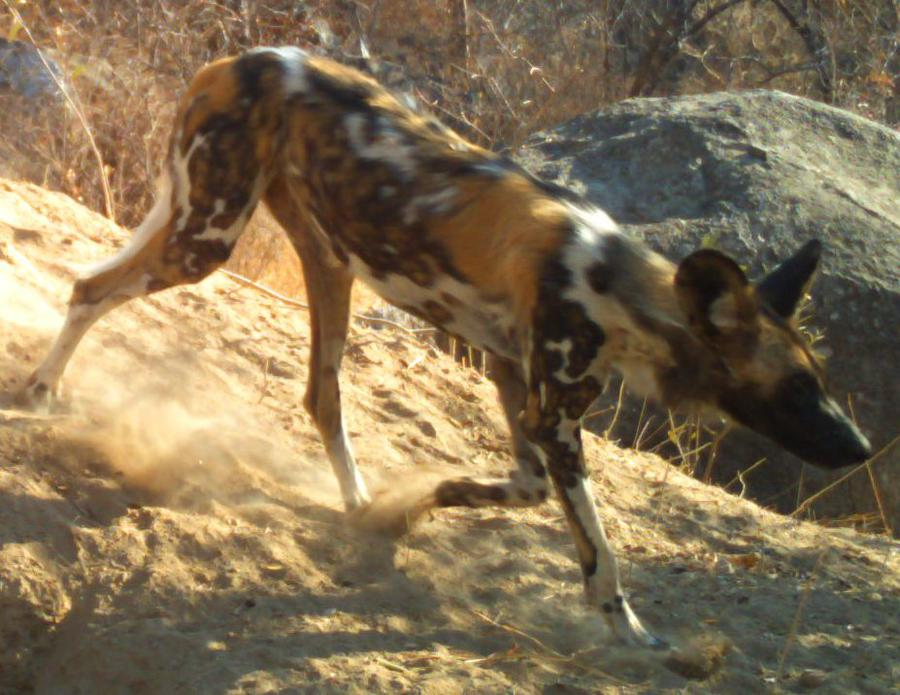wilddog: (73, 60, 829, 509)
